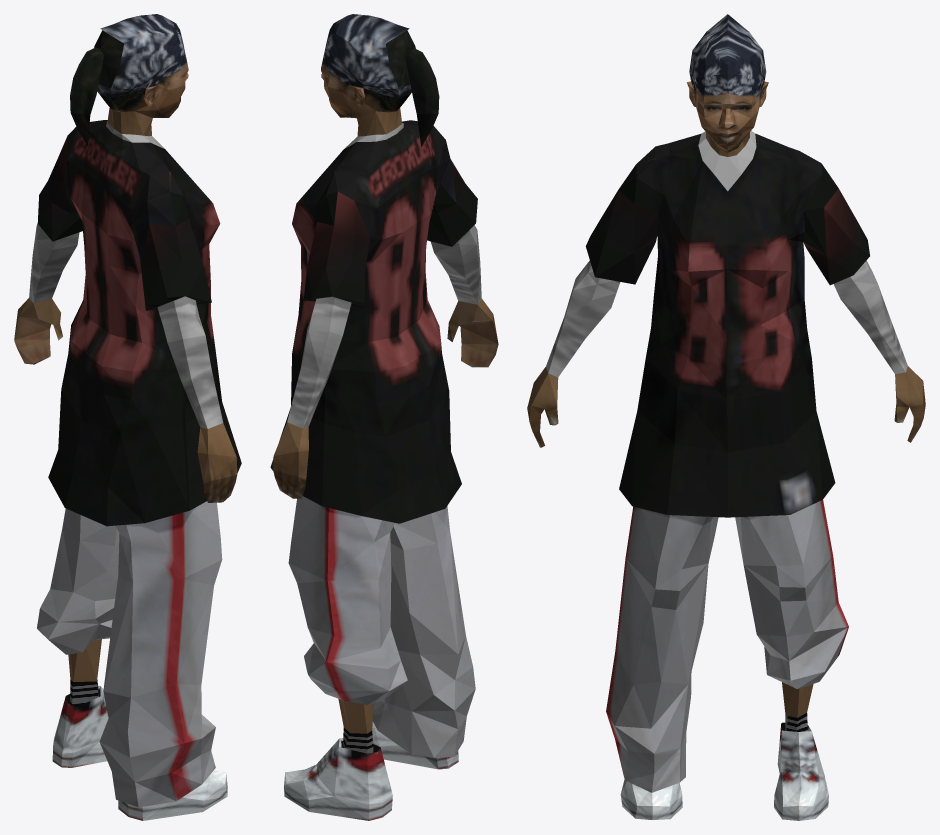
Rendered from gangrl3.obj.
The picture shows the model from 3 angles, left to right: view 1: azimuth 30°, elevation 25°; view 2: azimuth 150°, elevation 25°; view 3: azimuth 270°, elevation 25°; orthographic projection.
Visible parts, largest first — view 1: _Pelvis; view 2: _Pelvis; view 3: _Pelvis.
Part boxes in pixels (bbox=[...]): _Pelvis: bbox=[14, 14, 241, 820]; _Pelvis: bbox=[270, 14, 498, 820]; _Pelvis: bbox=[527, 14, 925, 820].
Size of the model in its own units: 0.3836 by 1.82 by 0.8521.
1 material, 1 textured.
